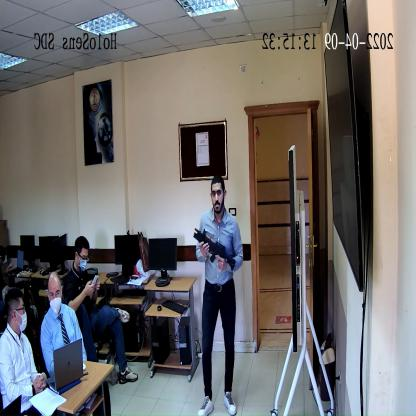handgun: (191, 226, 236, 275)
